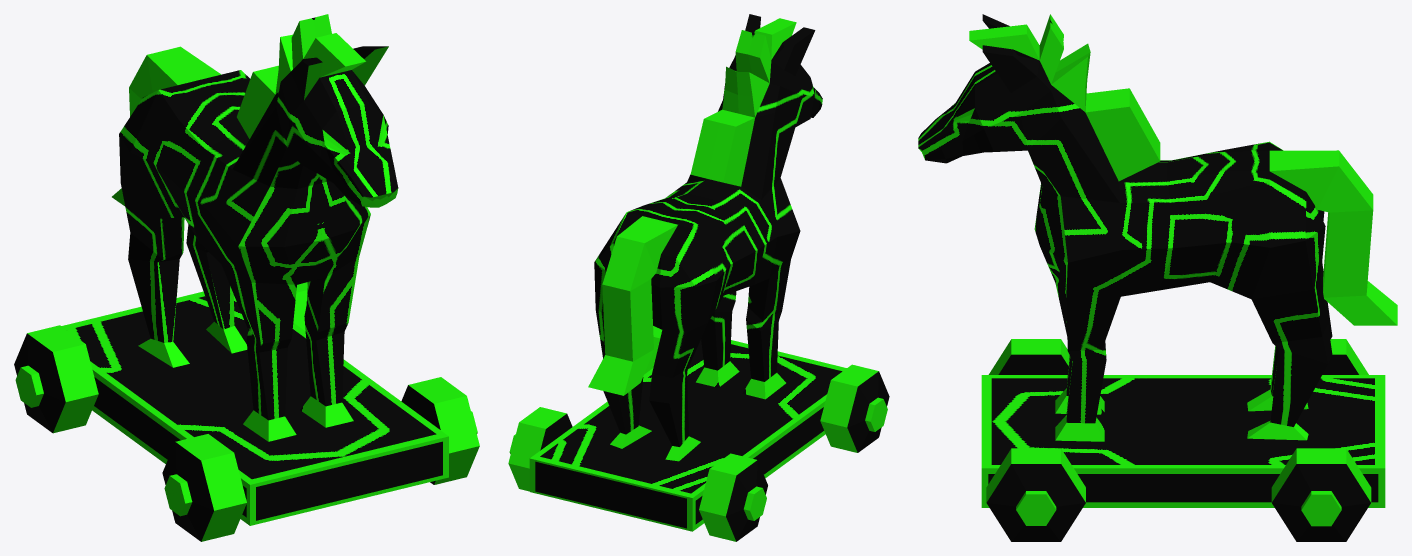
File: horsie.fbx
3 views of the same model, side by side, from view 1: azimuth 30°, elevation 25°; view 2: azimuth 150°, elevation 25°; view 3: azimuth 270°, elevation 25° (orthographic). The views are drawn at different scales.
Visible parts, largest first — view 1: Cylinder, Cube; view 2: Cylinder, Cube; view 3: Cylinder, Cube.
Part boxes in pixels (x1,y1,x2,y2): Cylinder: (112, 14, 398, 441); Cube: (14, 282, 479, 541); Cylinder: (588, 14, 822, 461); Cube: (508, 326, 889, 541); Cylinder: (918, 14, 1397, 441); Cube: (981, 339, 1385, 541).
Size of the model in its own units: 655 by 1017 by 963.
1 material, 1 textured.
